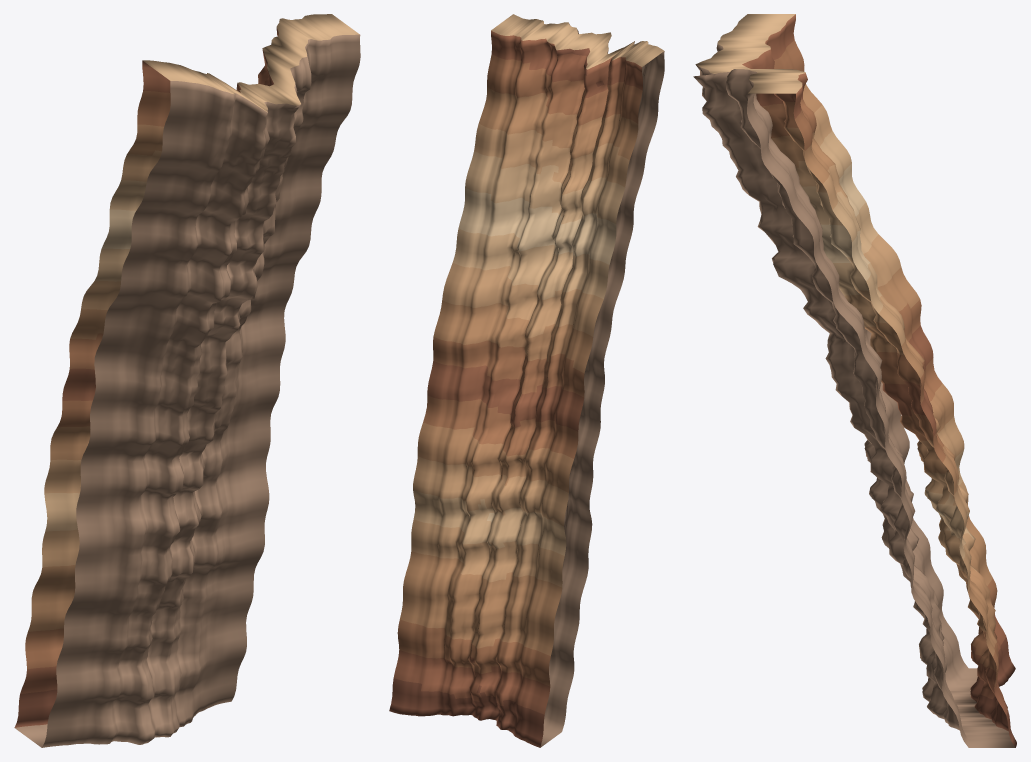
File: SM_CanyonWall_R_Straight_B_Wide.glb
3 views of the same model, side by side, from view 1: azimuth 30°, elevation 25°; view 2: azimuth 150°, elevation 25°; view 3: azimuth 270°, elevation 25° (orthographic). The views are drawn at different scales.
Parts seen in each view (by area): view 1: SM_CanyonWall_R_Straight_B_Wide; view 2: SM_CanyonWall_R_Straight_B_Wide; view 3: SM_CanyonWall_R_Straight_B_Wide.
Boxes of the visible parts, box(x1,y1,x2,y2) form: SM_CanyonWall_R_Straight_B_Wide: box(14, 14, 360, 747); SM_CanyonWall_R_Straight_B_Wide: box(389, 14, 664, 747); SM_CanyonWall_R_Straight_B_Wide: box(693, 14, 1016, 747).
Size of the model in its own units: 24 by 92.29 by 41.27.
